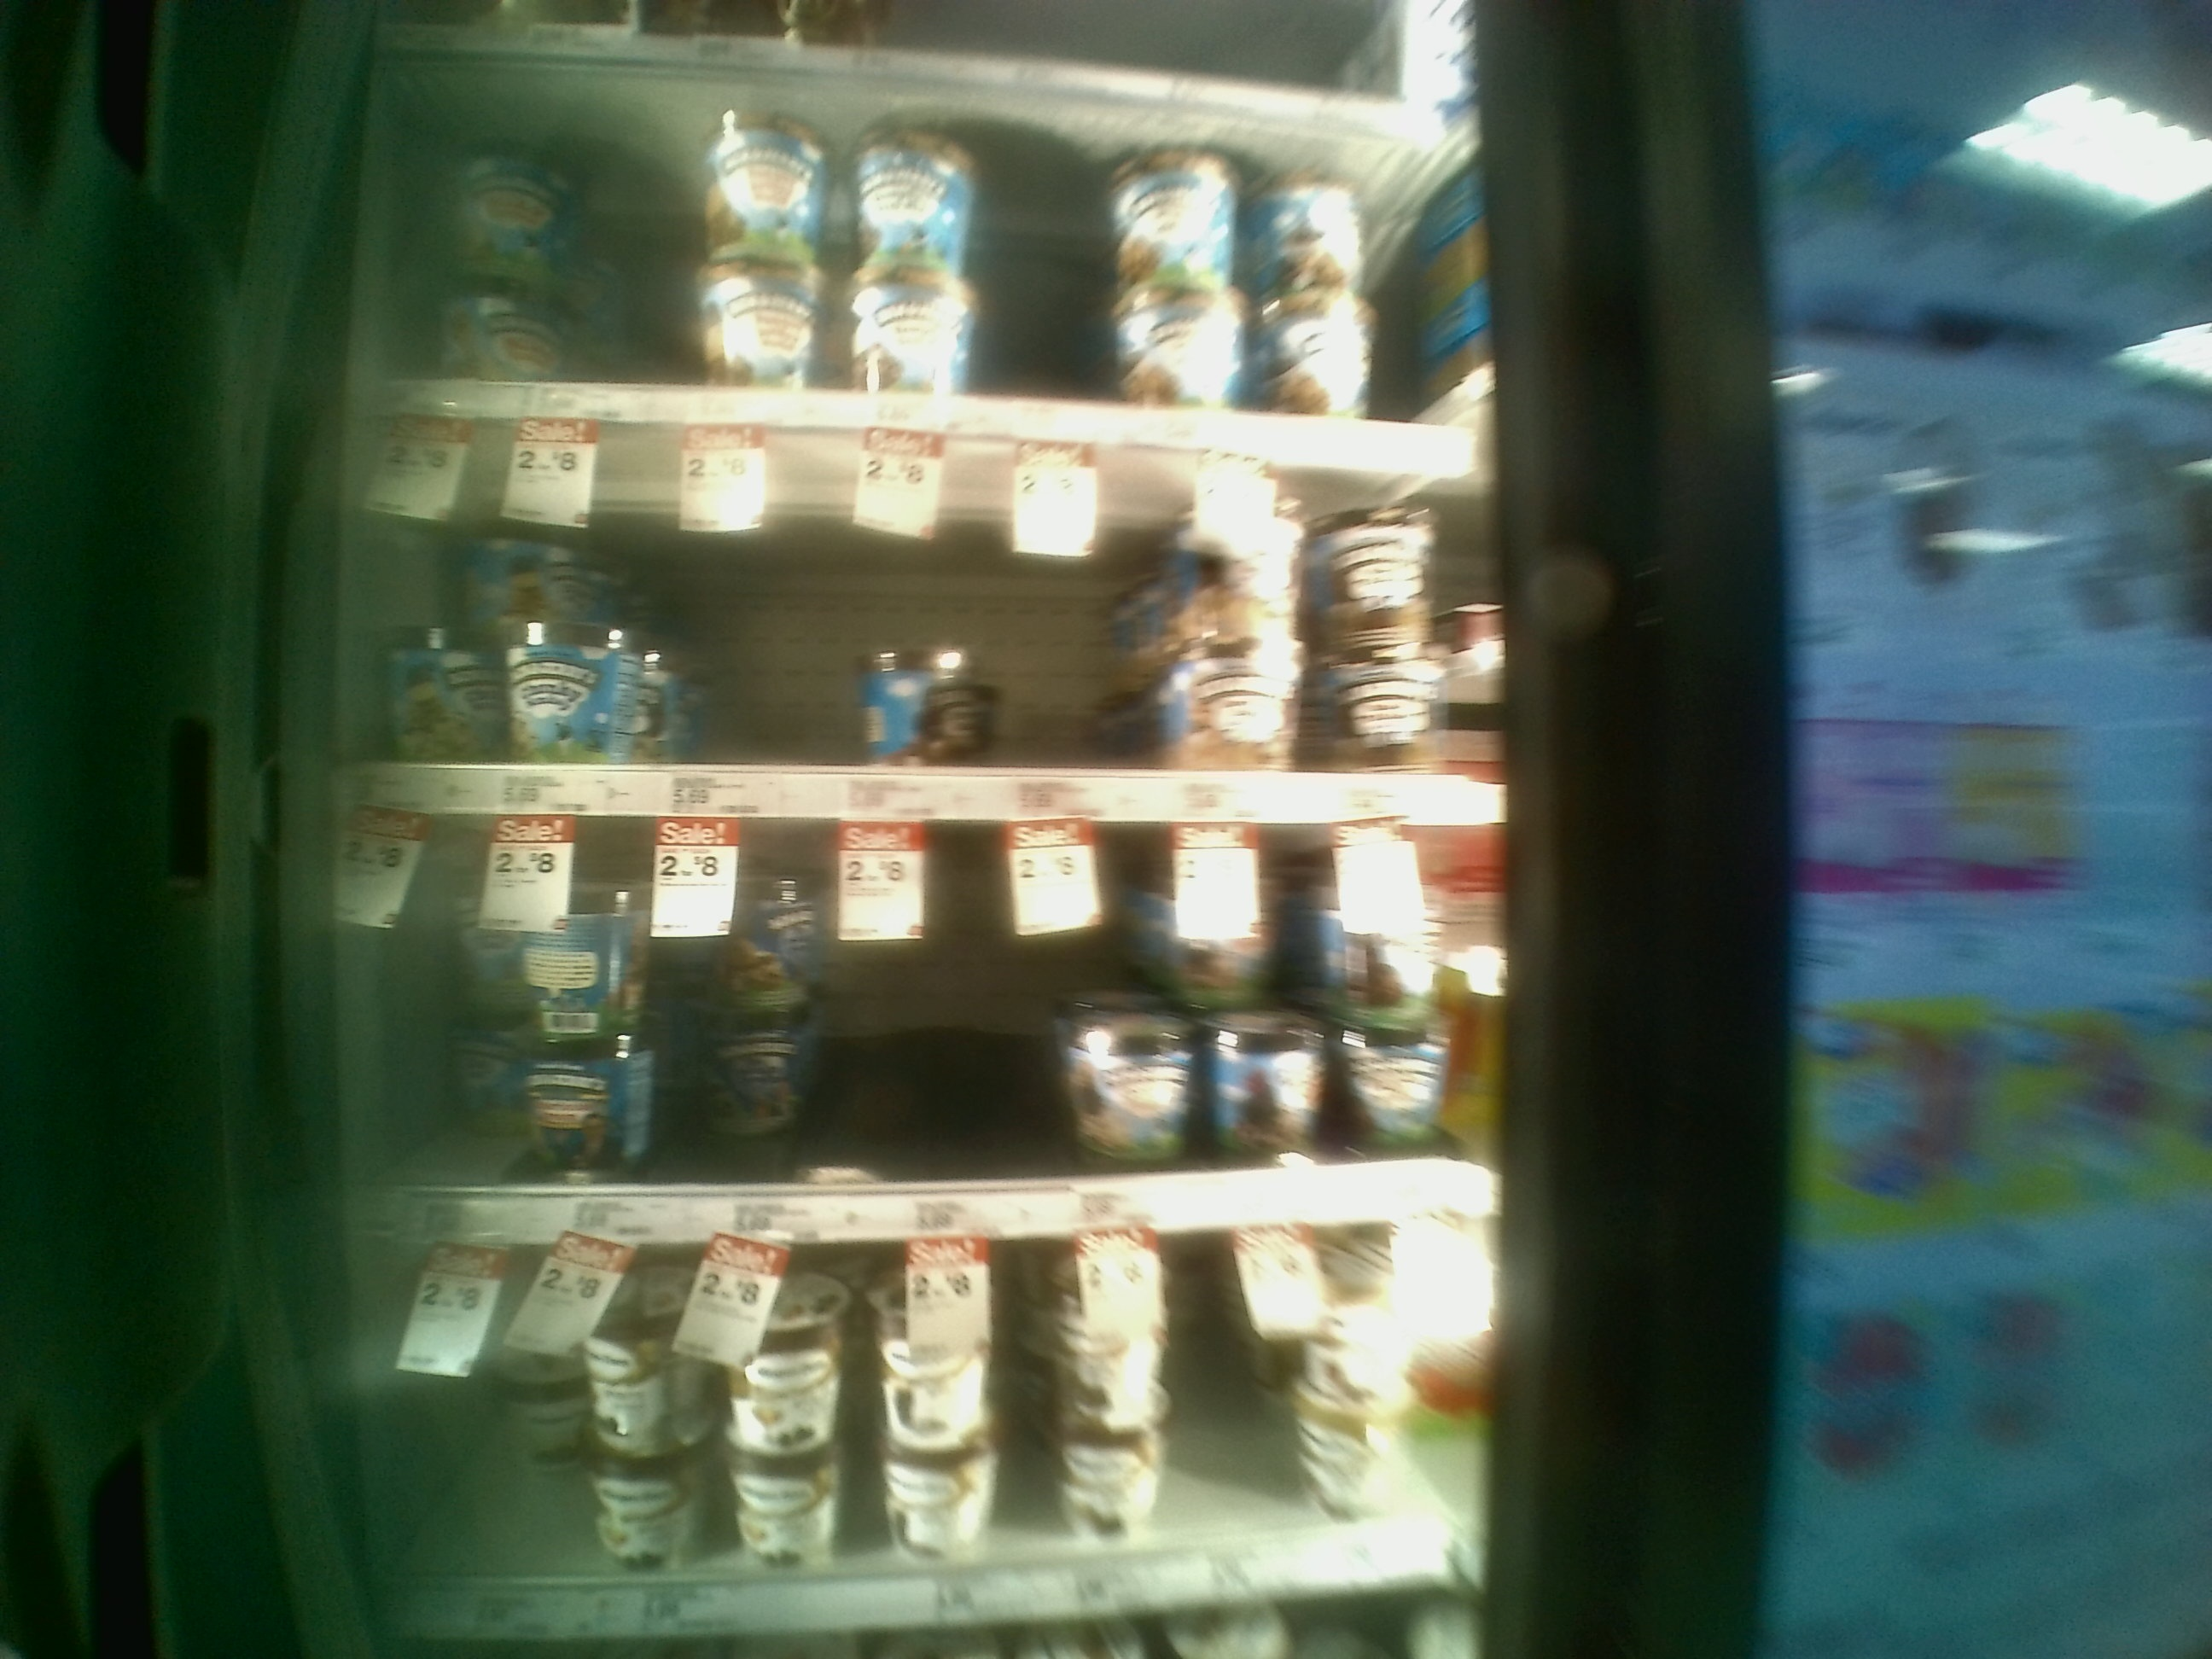shelf: (366, 37, 1501, 453), (361, 1236, 1508, 1647), (361, 812, 1480, 1230), (361, 427, 1510, 823)
